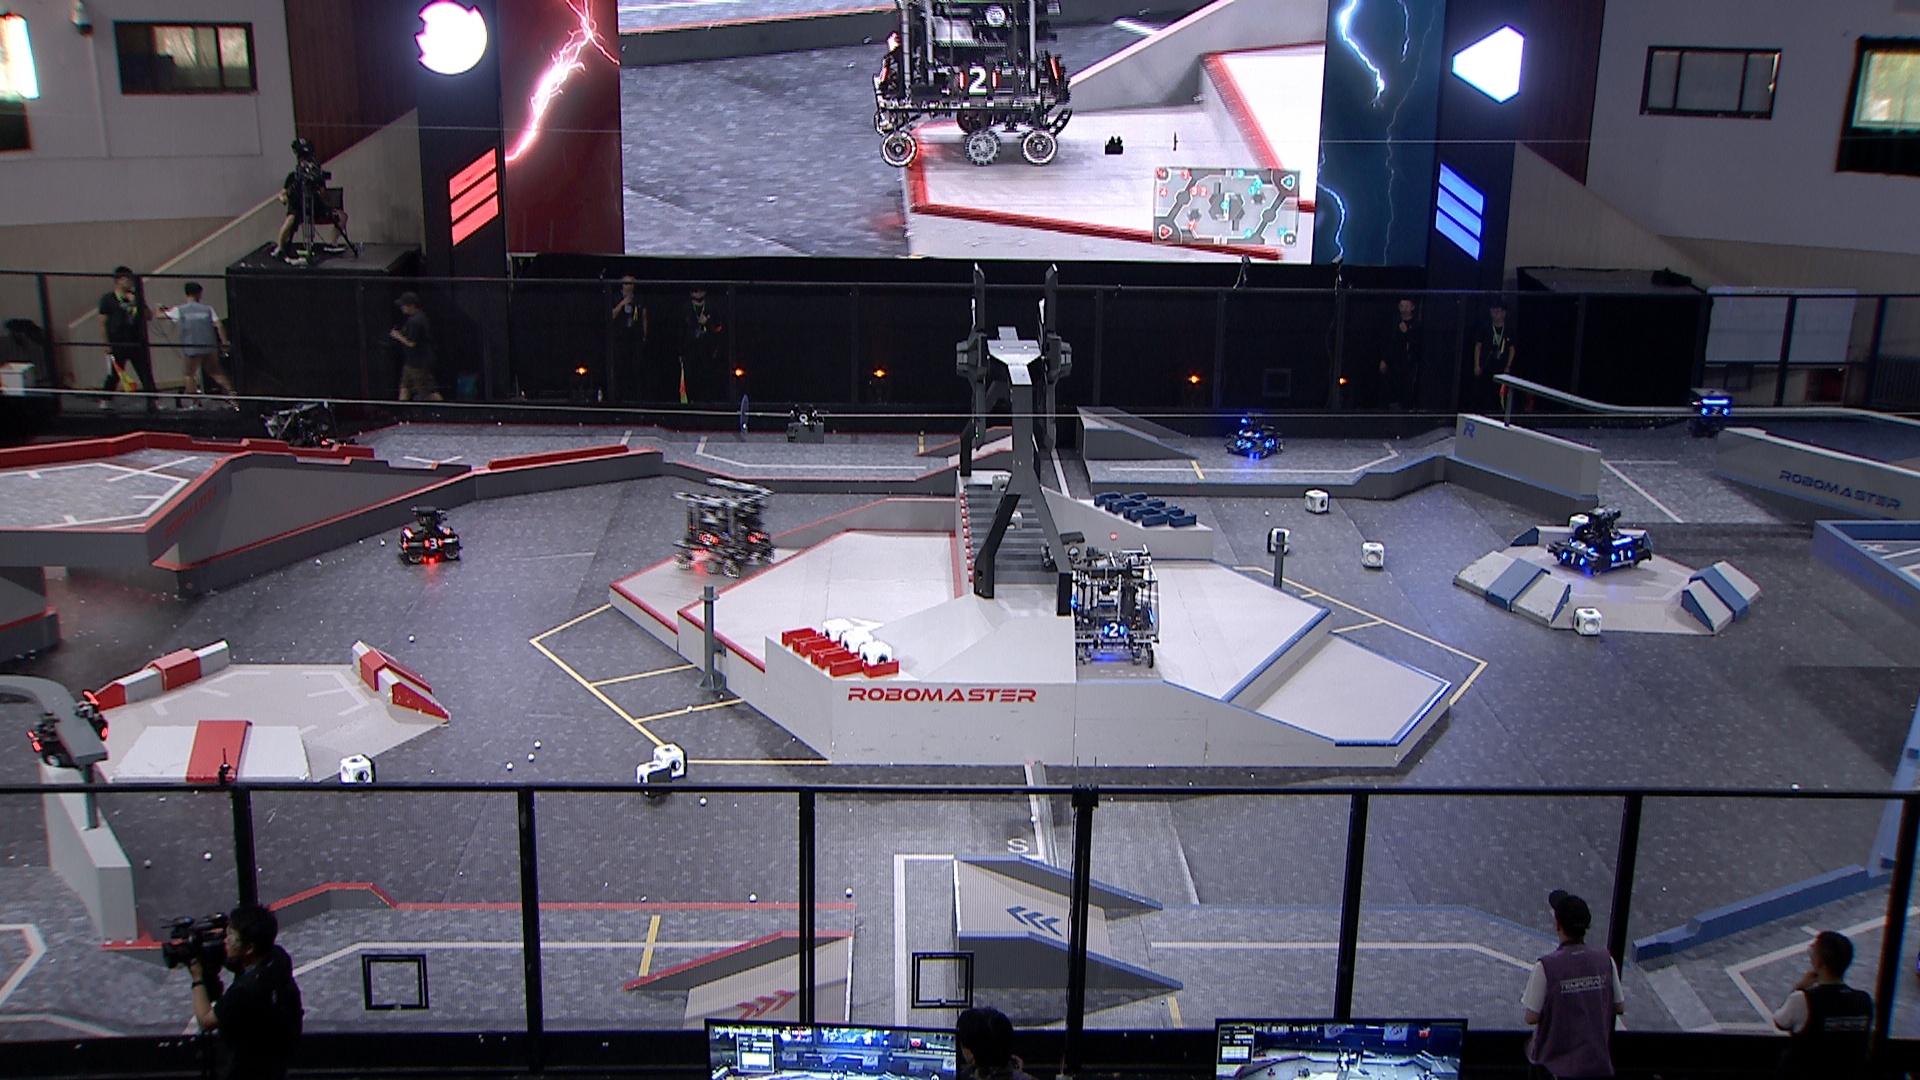armor: (1698, 405, 1731, 419), (1102, 621, 1127, 640), (1560, 550, 1588, 566), (419, 534, 444, 550), (25, 731, 44, 752), (1571, 538, 1594, 553), (746, 529, 766, 546), (699, 531, 719, 547), (1609, 547, 1633, 560), (318, 433, 338, 447), (1263, 434, 1278, 450), (1236, 438, 1253, 448)
car: (1048, 541, 1163, 670), (673, 475, 778, 578), (262, 398, 363, 480), (1543, 502, 1651, 576), (396, 505, 463, 564), (1221, 410, 1286, 458)
watcher: (22, 688, 111, 771), (1683, 384, 1735, 442)
